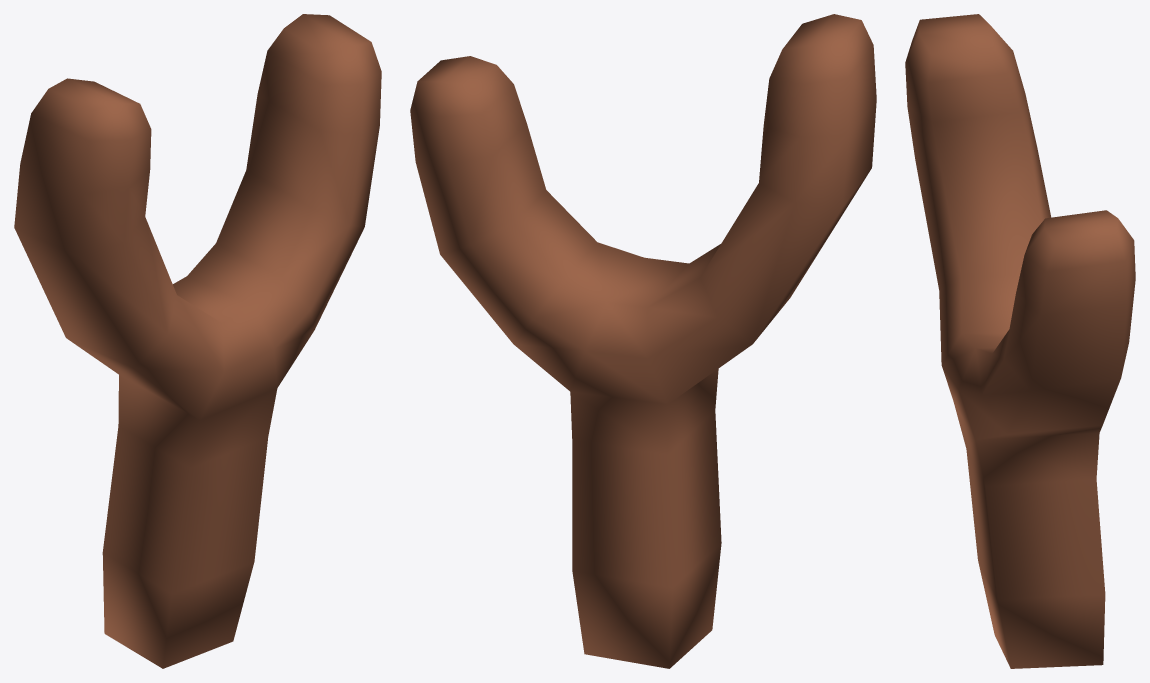
File: Shrub_Btm_B_01_LOD2.gltf
3 renders of one model, left to right at view 1: azimuth 30°, elevation 25°; view 2: azimuth 150°, elevation 25°; view 3: azimuth 270°, elevation 25°, orthographic. The views are drawn at different scales.
Parts seen in each view (by area): view 1: Shrub_Btm_B_01_LOD2_Cylinder.683; view 2: Shrub_Btm_B_01_LOD2_Cylinder.683; view 3: Shrub_Btm_B_01_LOD2_Cylinder.683.
Part boxes in pixels (<box>): Shrub_Btm_B_01_LOD2_Cylinder.683: <box>14,14,381,668</box>; Shrub_Btm_B_01_LOD2_Cylinder.683: <box>410,14,876,668</box>; Shrub_Btm_B_01_LOD2_Cylinder.683: <box>905,14,1135,668</box>.
Size of the model in its own units: 2.35 by 3.57 by 1.32.
1 material, 1 textured.
